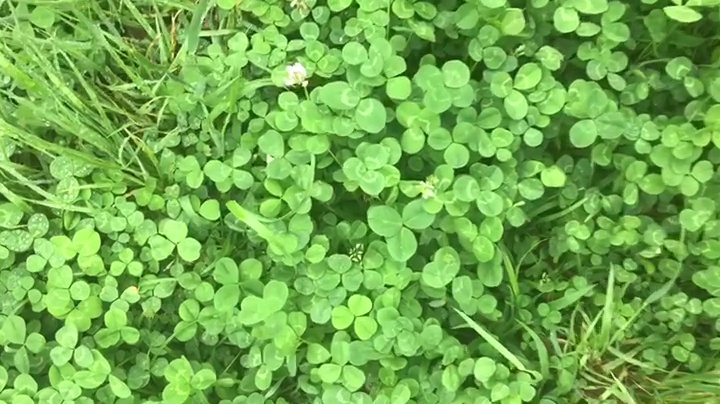4-clover: (417, 58, 477, 117)
